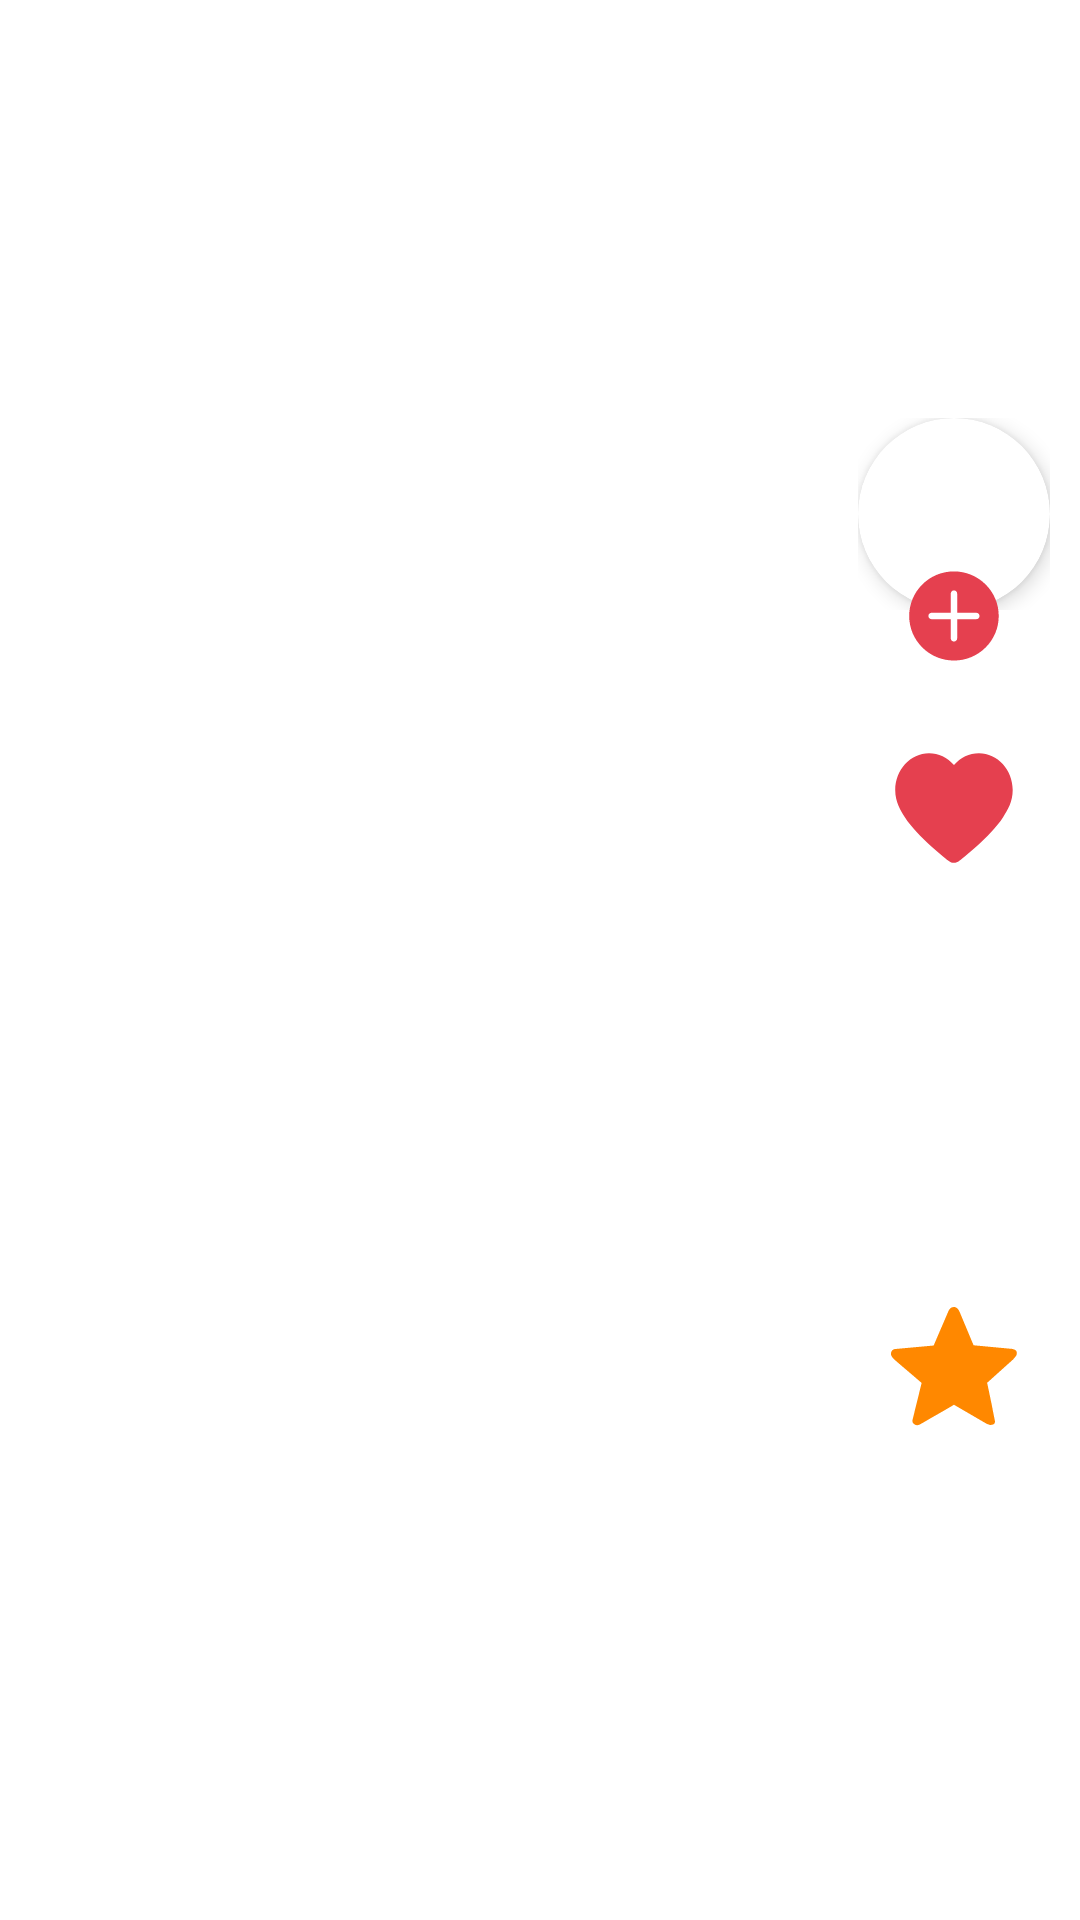

Icon click points for this 1080*1920 phone screenshot, format point (x, y):
add follow: point (954, 616)
collect true: point (954, 1366)
love true: point (954, 808)
